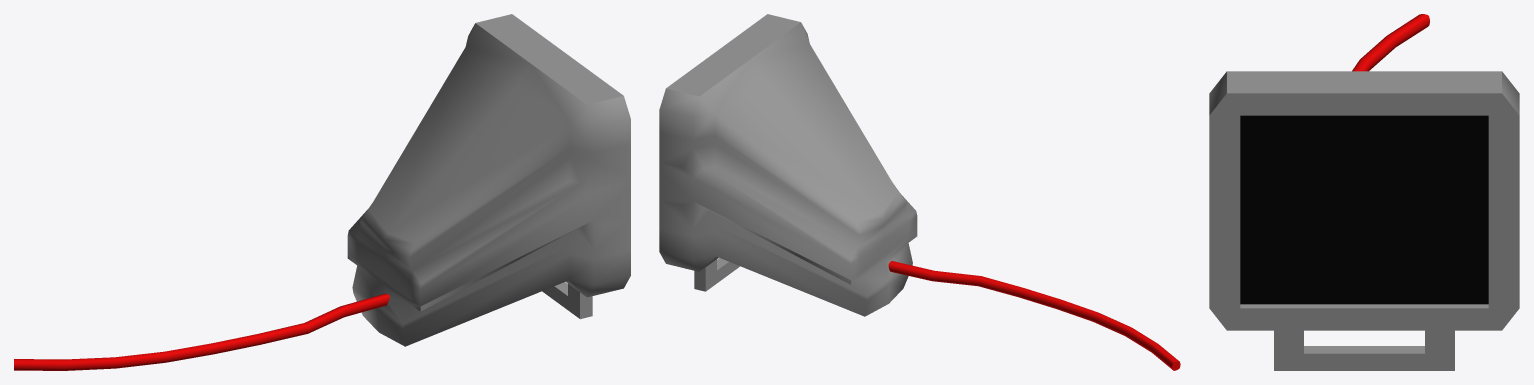
File: FBX_Projecteur.fbx
3 renders of one model, left to right at view 1: azimuth 30°, elevation 25°; view 2: azimuth 150°, elevation 25°; view 3: azimuth 270°, elevation 25°, orthographic. The views are drawn at different scales.
Parts seen in each view (by area): view 1: lumiere; view 2: lumiere; view 3: lumiere.
Part boxes in pixels (left/top/right/bottom): lumiere: left=14, top=14, right=630, bottom=370; lumiere: left=659, top=14, right=1180, bottom=370; lumiere: left=1209, top=14, right=1519, bottom=370.
Bounding box in the file's own units: 0.6064 × 0.2522 × 0.2487.
